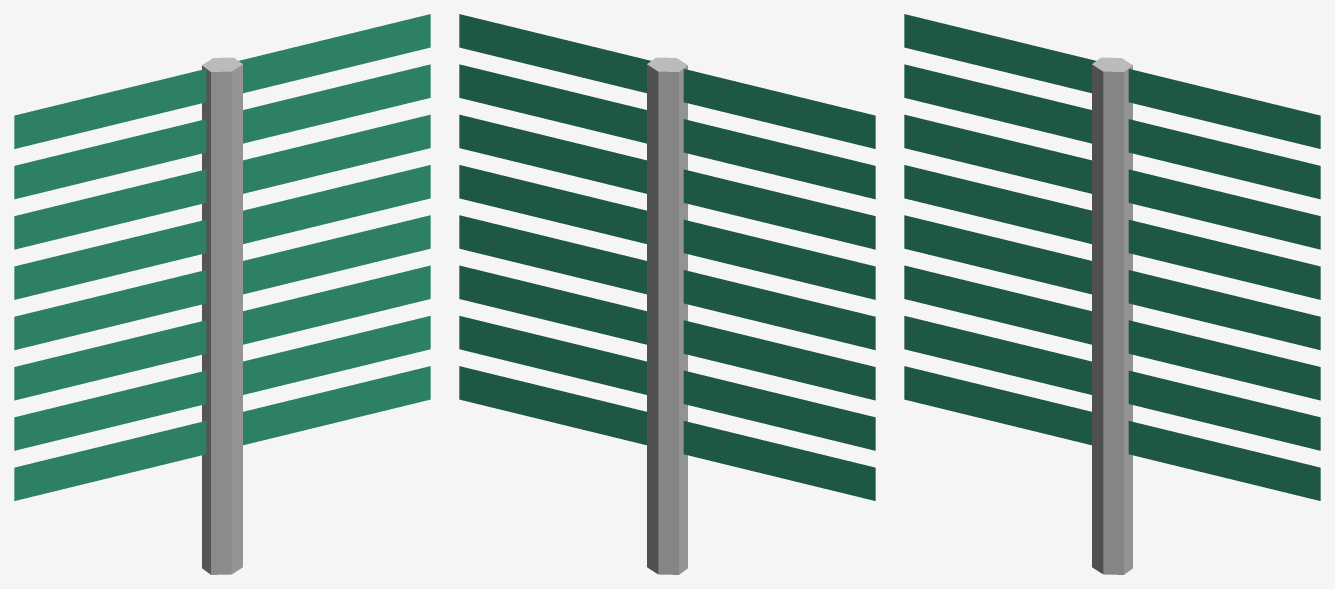
File: doble_sign.glb
3 views of the same model, side by side, from view 1: azimuth 30°, elevation 25°; view 2: azimuth 150°, elevation 25°; view 3: azimuth 330°, elevation 25° (orthographic).
Visible parts, largest first — view 1: Cylinder.003, Plane.029, Plane.028, Plane.026, Plane.030, Plane.024, Plane.025, Plane.027, Plane.031, Plane.016, Plane.017, Plane.021 (+5 smaller); view 2: Cylinder.003, Plane.029, Plane.028, Plane.026, Plane.030, Plane.024, Plane.025, Plane.027, Plane.031, Plane.016, Plane.017, Plane.021 (+5 smaller); view 3: Cylinder.003, Plane.018, Plane.019, Plane.017, Plane.021, Plane.016, Plane.020, Plane.022, Plane.023, Plane.031, Plane.024, Plane.026 (+5 smaller).
Boxes of the visible parts, <box> form: Cylinder.003: <box>202,57,242,574</box>; Plane.029: <box>14,169,206,249</box>; Plane.028: <box>14,219,206,299</box>; Plane.026: <box>14,320,206,400</box>; Plane.030: <box>14,119,206,199</box>; Plane.024: <box>14,421,206,500</box>; Plane.025: <box>14,370,206,450</box>; Plane.027: <box>14,270,206,349</box>; Plane.031: <box>14,69,206,148</box>; Plane.016: <box>239,14,430,93</box>; Plane.017: <box>243,64,430,143</box>; Plane.021: <box>243,265,430,344</box>; Cylinder.003: <box>647,57,687,574</box>; Plane.029: <box>683,169,875,249</box>; Plane.028: <box>683,219,875,299</box>; Plane.026: <box>683,320,875,400</box>; Plane.030: <box>683,119,875,199</box>; Plane.024: <box>683,421,875,500</box>; Plane.025: <box>683,370,875,450</box>; Plane.027: <box>683,270,875,349</box>; Plane.031: <box>683,69,875,148</box>; Plane.016: <box>459,14,650,93</box>; Plane.017: <box>459,64,646,143</box>; Plane.021: <box>459,265,646,344</box>; Cylinder.003: <box>1092,57,1132,574</box>; Plane.018: <box>1128,169,1320,249</box>; Plane.019: <box>1128,219,1320,299</box>; Plane.017: <box>1128,119,1320,199</box>; Plane.021: <box>1128,320,1320,400</box>; Plane.016: <box>1128,69,1320,148</box>; Plane.020: <box>1128,270,1320,349</box>; Plane.022: <box>1128,370,1320,450</box>; Plane.023: <box>1128,421,1320,500</box>; Plane.031: <box>904,14,1095,93</box>; Plane.024: <box>904,366,1091,445</box>; Plane.026: <box>904,265,1091,344</box>.
Size of the model in its own units: 2.6 by 3 by 0.2.
